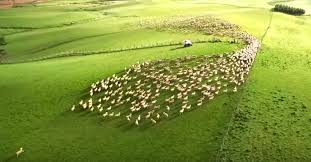sheep: (14, 147, 24, 156), (161, 111, 169, 120), (150, 117, 158, 125), (70, 104, 77, 112), (196, 100, 202, 108), (115, 111, 121, 119), (133, 120, 140, 126), (178, 108, 184, 115), (96, 102, 102, 109), (103, 111, 108, 117), (109, 111, 114, 117), (187, 104, 191, 111), (90, 92, 95, 97), (90, 107, 94, 112), (98, 87, 101, 92)
